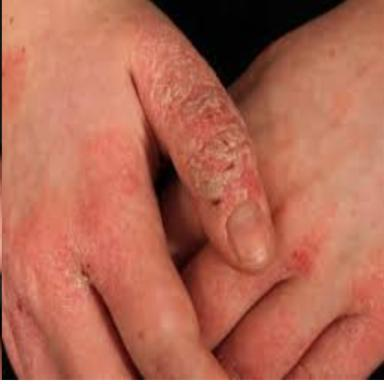eczema: (131, 30, 264, 228), (1, 233, 101, 378), (285, 280, 384, 379)
